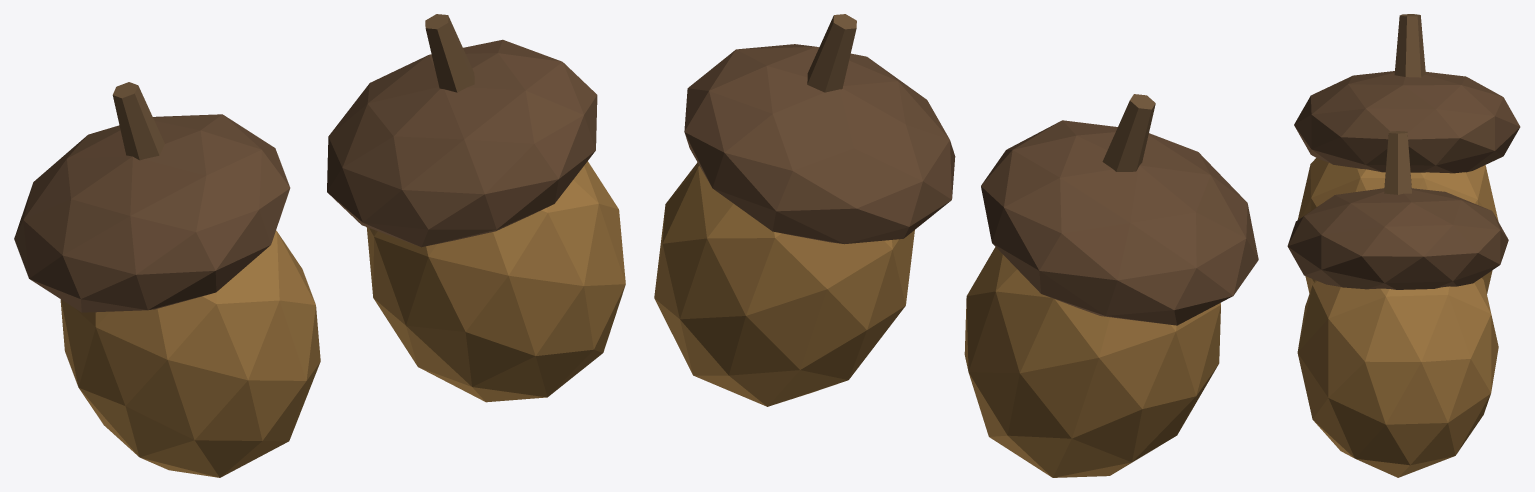
File: pile-treeSeed-2.gltf
3 renders of one model, left to right at view 1: azimuth 30°, elevation 25°; view 2: azimuth 150°, elevation 25°; view 3: azimuth 270°, elevation 25°, orthographic. The views are drawn at different scales.
Parts seen in each view (by area): view 1: pile-treeSeed-2; view 2: pile-treeSeed-2; view 3: pile-treeSeed-2.
Part boxes in pixels (bbox=[...]): pile-treeSeed-2: bbox=[14, 14, 625, 477]; pile-treeSeed-2: bbox=[654, 14, 1258, 477]; pile-treeSeed-2: bbox=[1287, 14, 1520, 477].
Bounding box in the file's own units: 0.5039 × 0.3302 × 0.2257.
